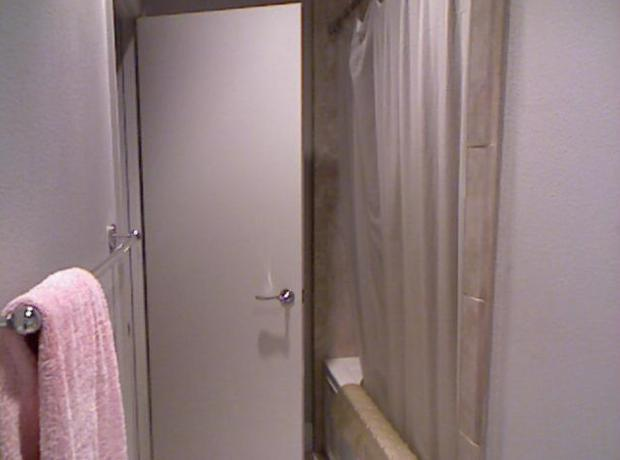Ducha: (326, 7, 491, 457)
